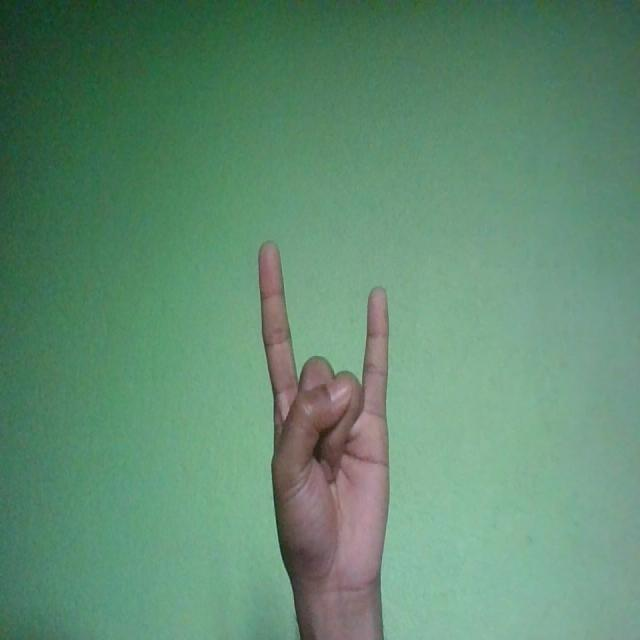open Plam: (259, 241, 390, 605)
